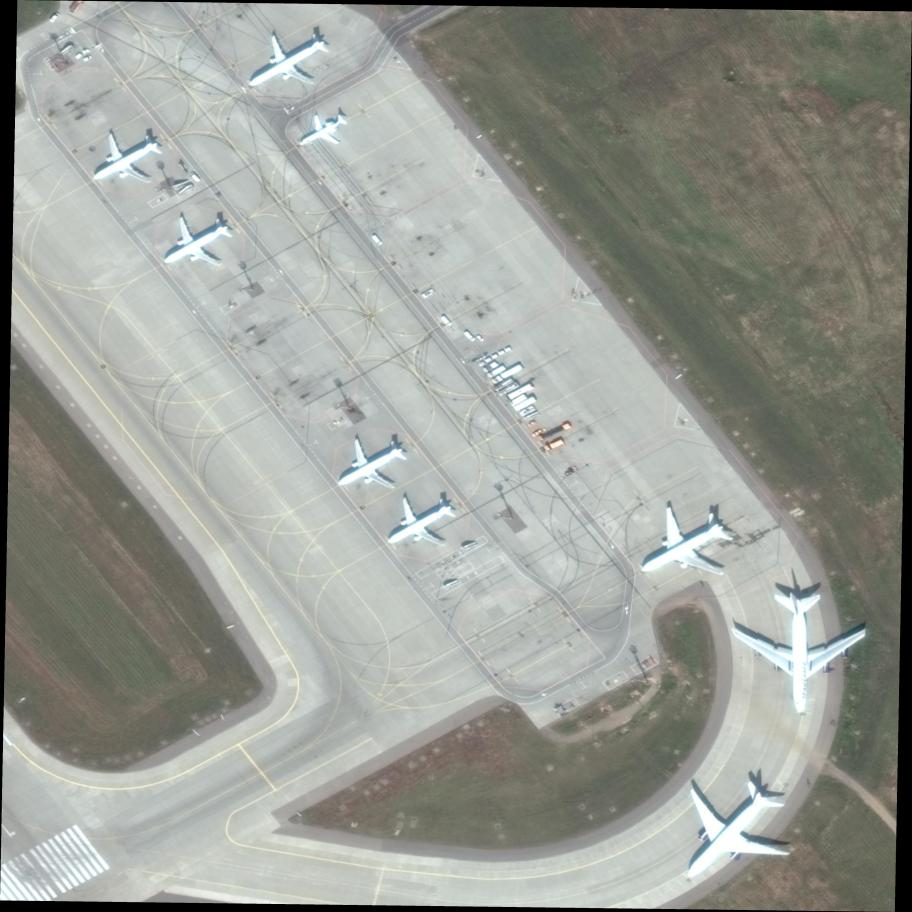large-vehicle: (490, 363, 525, 386), (543, 439, 565, 453), (487, 365, 507, 380), (48, 10, 62, 25), (483, 361, 499, 374), (370, 234, 383, 247), (463, 330, 476, 342), (441, 314, 452, 327), (476, 333, 486, 343)
plane: (642, 748, 814, 912), (727, 590, 871, 714), (619, 483, 752, 610), (230, 12, 343, 113), (370, 474, 471, 570), (74, 116, 177, 205), (321, 419, 420, 511), (145, 200, 242, 290), (287, 100, 357, 163)
small-vehicle: (82, 55, 92, 63)
